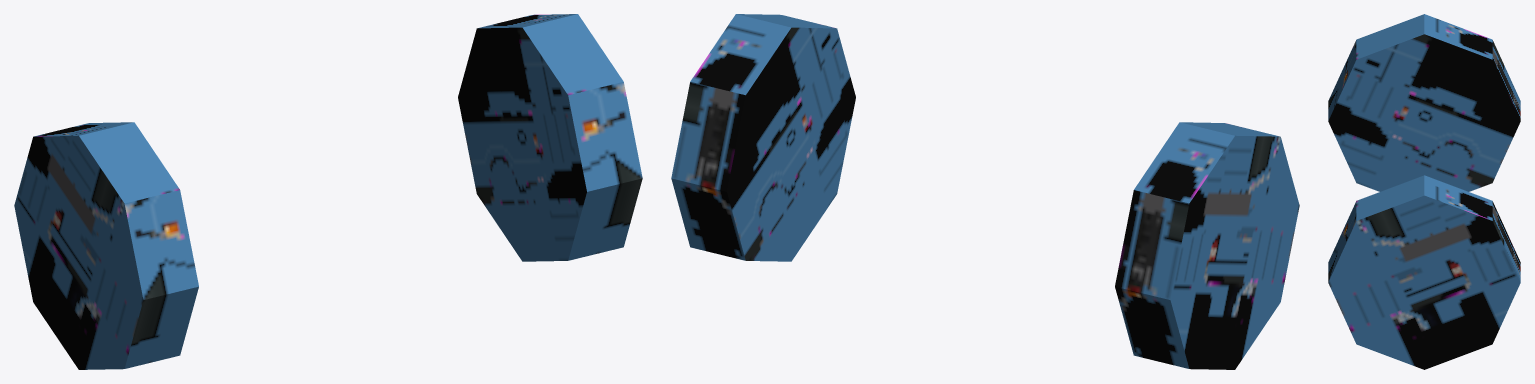
Rendered from jdm_pickup_wheels_f.obj.
3 renders of one model, left to right at view 1: azimuth 30°, elevation 25°; view 2: azimuth 150°, elevation 25°; view 3: azimuth 270°, elevation 25°, orthographic. The views are drawn at different scales.
Parts seen in each view (by area): view 1: jdm_pickup_wheels_f; view 2: jdm_pickup_wheels_f; view 3: jdm_pickup_wheels_f.
Boxes of the visible parts, x1=… form: jdm_pickup_wheels_f: x1=14, y1=14, x2=642, y2=369; jdm_pickup_wheels_f: x1=671, y1=14, x2=1299, y2=369; jdm_pickup_wheels_f: x1=1328, y1=14, x2=1520, y2=369.
Bounding box in the file's own units: 1.35 × 0.606 × 0.606.
Materials: 1 (1 with a texture image).
